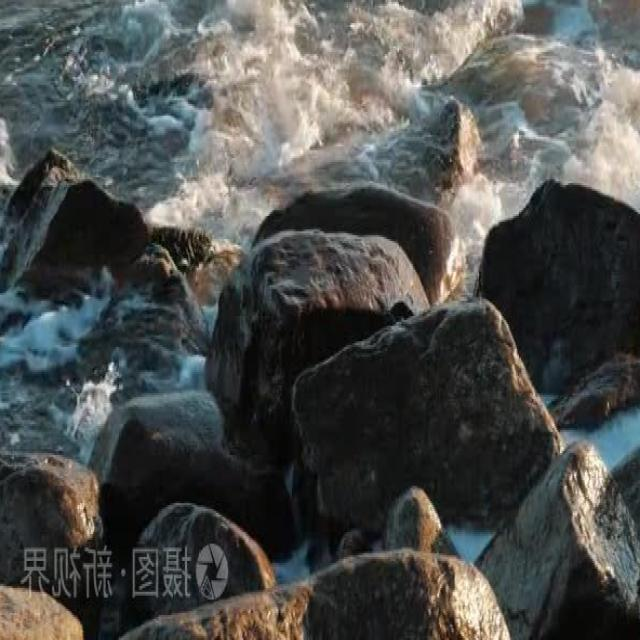reef: (56, 63, 493, 479)
